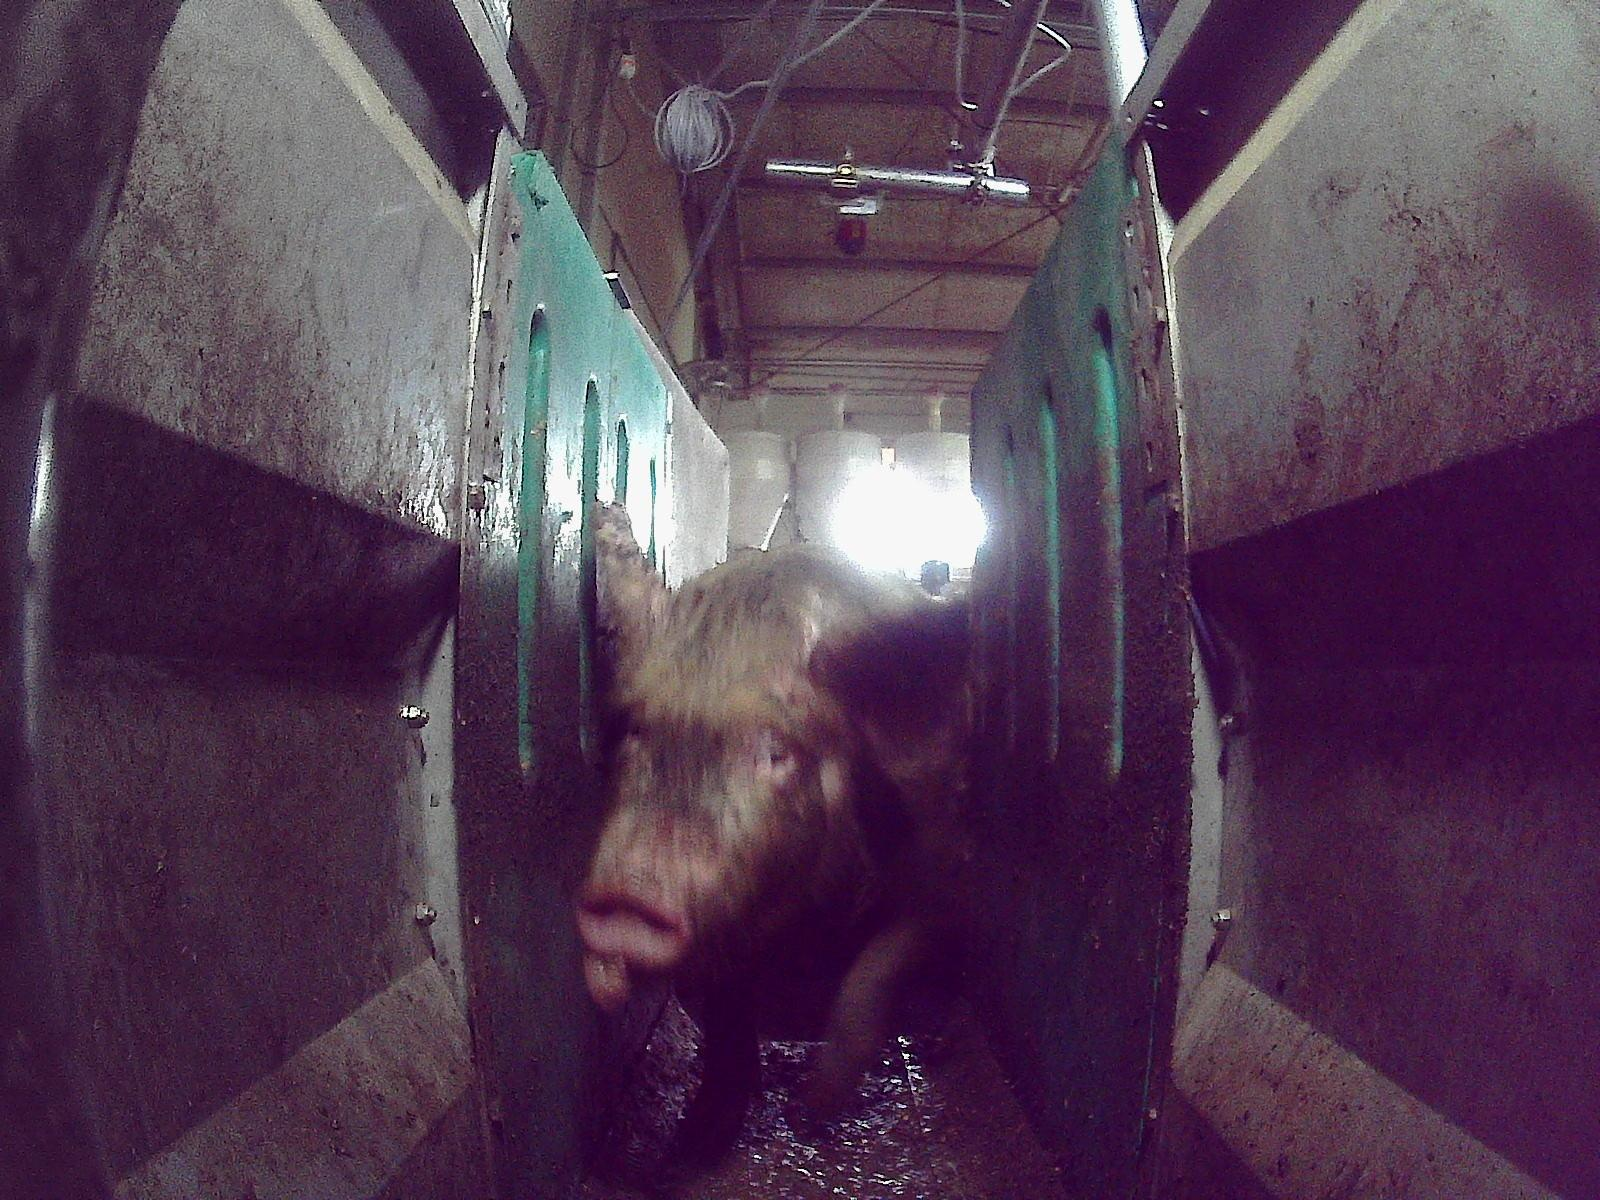Face: (570, 582, 837, 1006)
